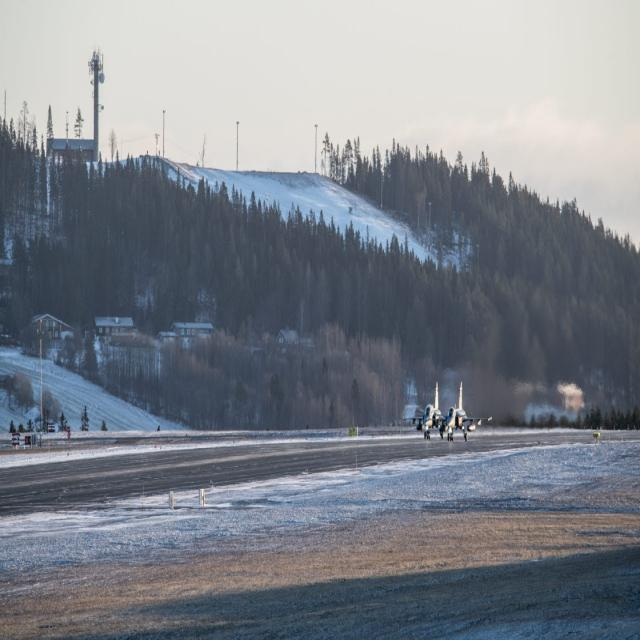MIL_Plane: (427, 381, 492, 442), (404, 381, 446, 439)
